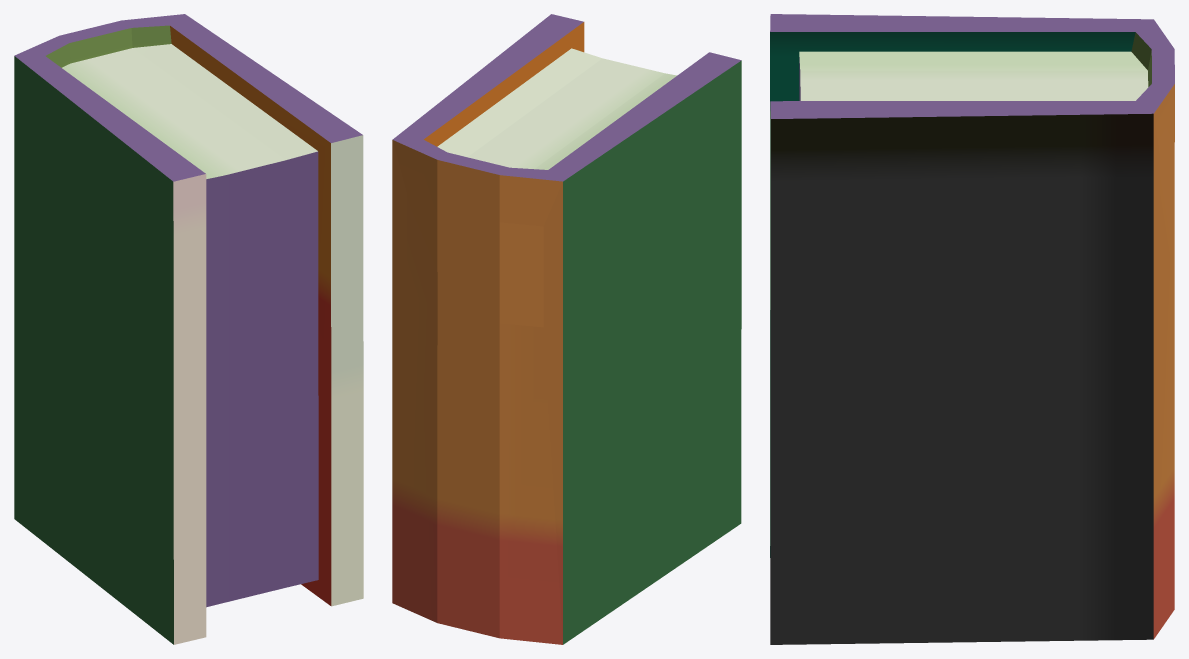
File: book01.fbx
3 views of the same model, side by side, from view 1: azimuth 30°, elevation 25°; view 2: azimuth 150°, elevation 25°; view 3: azimuth 270°, elevation 25° (orthographic). The views are drawn at different scales.
Parts seen in each view (by area): view 1: book01; view 2: book01; view 3: book01.
Part boxes in pixels (<box>): book01: <box>14,14,363,644</box>; book01: <box>392,14,741,644</box>; book01: <box>770,14,1174,644</box>.
Size of the model in its own units: 0.152 by 0.3538 by 0.2468.
